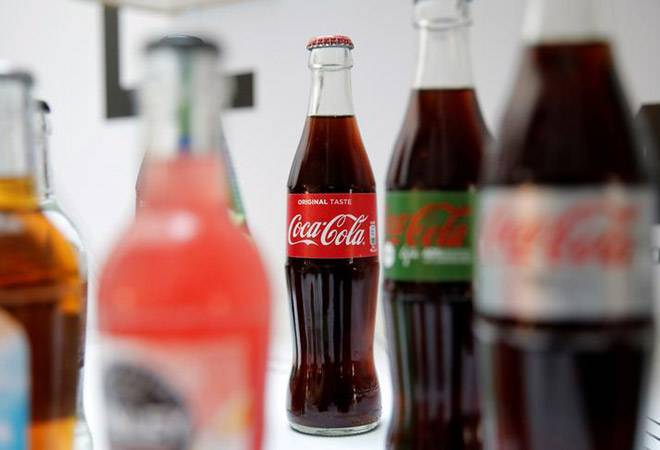Coca-Cola: (266, 30, 388, 437)
